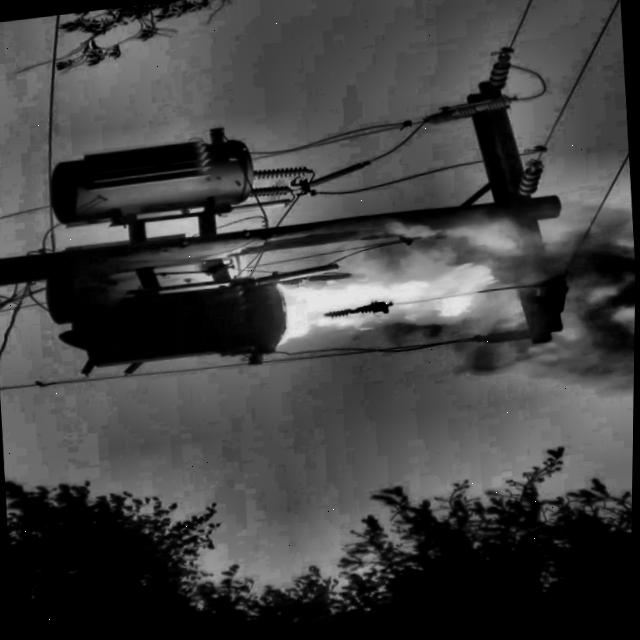Fire: (251, 256, 510, 357)
